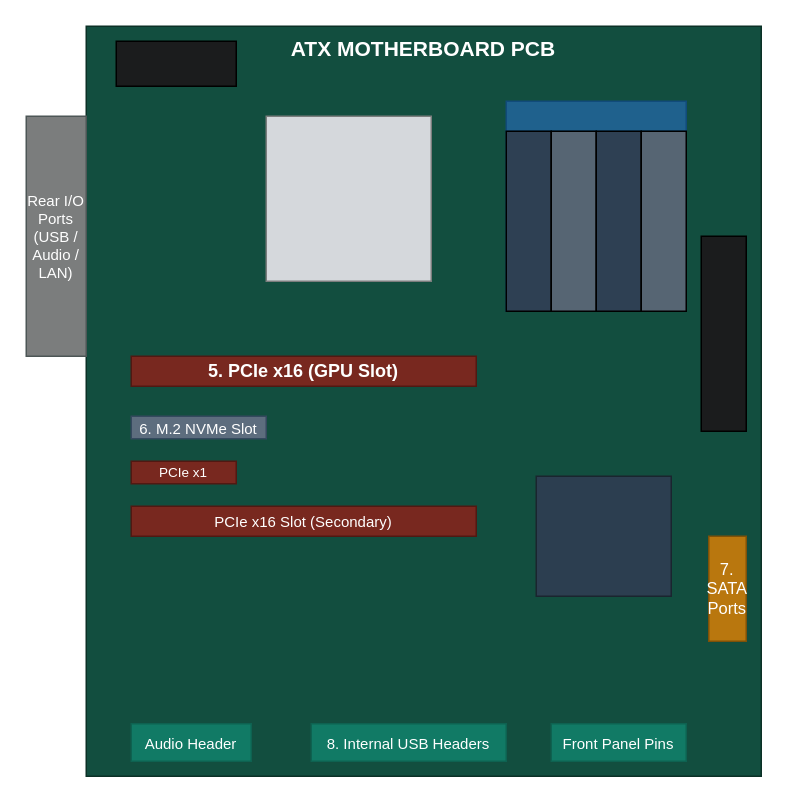
Some shapes in this 788 by 803 pixel diagram are drawn without their labels. Each missing label, with the box of its shape:
1. CPU Socket: (265, 115, 431, 281)
2. CPU Power (8-Pin): (115, 40, 236, 86)
3. RAM Slots (DIMM): (505, 100, 686, 311)
4. Main ATX Power (24-Pin): (700, 235, 746, 431)
Motherboard Chipset: (535, 475, 671, 596)
